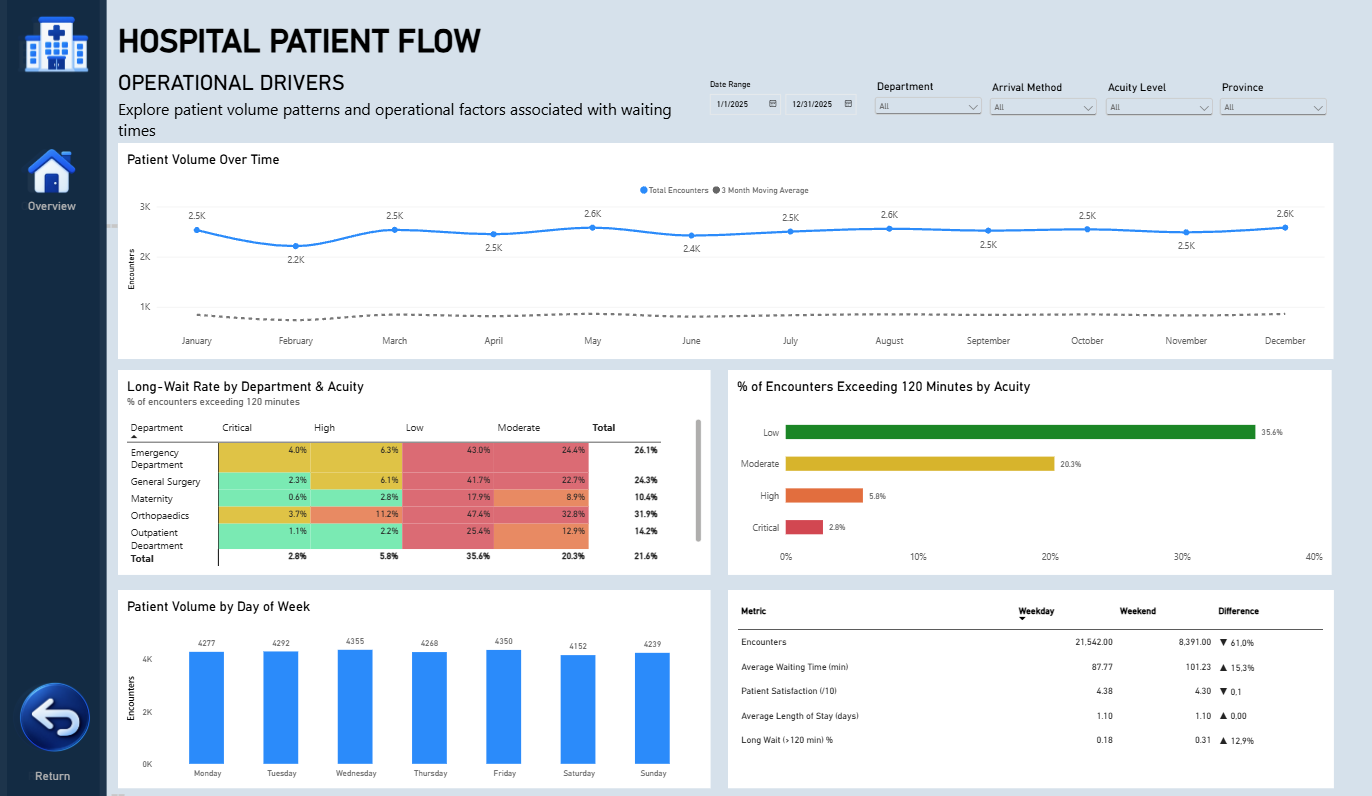

This screenshot's page, from the dashboard's own definition file:
{"tool":"powerbi","page":{"name":"Operational Performance","canvas":[1920,1080],"ordinal":1},"visuals":[{"type":"shape","box":[10,0,134.7,1080],"z":0,"group":"g8"},{"type":"slicer","fields":{"Values":["pipeline_dim_date.full_date"]},"box":[952.1,109.1,224.4,59.8],"z":0,"group":"g4"},{"type":"textbox","title":"Return","box":[48,1041.1,121.1,39.4],"z":0,"group":"g3"},{"type":"image","box":[10,8.2,134.7,106],"z":1000,"group":"g8"},{"type":"group","id":"g1","title":"Group 2","box":[158.9,31.3,757.6,164.2],"z":1000},{"type":"textbox","box":[159.1,31.3,674,51.8],"z":1000,"group":"g1"},{"type":"image","box":[19.5,919.5,111.5,104.7],"z":1000,"group":"g3"},{"type":"textbox","box":[159.1,96.4,373.9,35.5],"z":2000,"group":"g1"},{"type":"slicer","fields":{"Values":["pipeline_dim_department.department_name"]},"box":[1177.6,108.8,155.1,59.8],"z":2000,"group":"g4"},{"type":"group","id":"g2","title":"Group 3","box":[10,194.5,149.6,115.6],"z":2000,"group":"g8"},{"type":"slicer","fields":{"Values":["pipeline_dim_arrival_method.arrival_method"]},"box":[1333.7,109.8,155,59],"z":3000,"group":"g4"},{"type":"textbox","box":[158.9,134.3,757.6,61.2],"z":3000,"group":"g1"},{"type":"group","id":"g3","title":"Group 4","box":[19.5,919.5,149.6,160.5],"z":3000,"group":"g8"},{"type":"slicer","fields":{"Values":["pipeline_fact_encounters.acuity_level"]},"box":[1489.8,109.9,155,59],"z":4000,"group":"g4"},{"type":"slicer","fields":{"Values":["pipeline_dim_patient.province"]},"box":[1644.4,110.4,155,59],"z":5000,"group":"g4"},{"type":"shape","box":[0,0,134.7,1080],"z":6000,"group":"g7"},{"type":"image","box":[0,8.2,134.7,106],"z":7000,"group":"g7"},{"type":"image","box":[0,194.5,121.1,76.2],"z":8000,"group":"g5"},{"type":"image","box":[10,194.5,121.1,76.2],"z":8000,"group":"g2"},{"type":"lineChart","title":"Patient Volume Over Time","fields":{"Category":["pipeline_dim_date.month_name"],"Y":["pipeline_fact_encounters.Total Encounters","pipeline_fact_encounters.3 Month Moving Average"]},"box":[159.1,194.5,1643.1,292.4],"z":12000},{"type":"clusteredColumnChart","title":"Patient Volume by Day of Week","fields":{"Category":["pipeline_dim_date.day_name"],"Y":["pipeline_fact_encounters.Total Encounters"]},"box":[159.1,798.4,801.2,268],"z":13000},{"type":"clusteredBarChart","title":"% of Encounters Exceeding 120 Minutes by Acuity","fields":{"Category":["pipeline_fact_encounters.acuity_level"],"Y":["pipeline_fact_encounters.Long Wait %"]},"box":[983.4,501.9,816.1,277.5],"z":14000},{"type":"pivotTable","title":"Long-Wait Rate by Department & Acuity","fields":{"Columns":["pipeline_fact_encounters.acuity_level"],"Rows":["pipeline_dim_department.department_name"],"Values":["pipeline_fact_encounters.Long Wait %"]},"box":[159.1,501.9,801.2,277.5],"z":15000},{"type":"tableEx","fields":{"Values":["Comparison Metrics.Metric","pipeline_fact_encounters.Weekday Comparison","pipeline_fact_encounters.Weekend Comparison","pipeline_fact_encounters.Weekend Difference Display"]},"box":[983.4,798.4,818.8,268],"z":16000},{"type":"group","id":"g4","title":"Group 1","box":[952.1,108.8,847.4,59.8],"z":16001},{"type":"textbox","title":"Overview","box":[28.6,270.7,121.1,39.4],"z":16002,"group":"g5"},{"type":"textbox","title":"Overview","box":[38.6,270.7,121.1,39.4],"z":16002,"group":"g2"},{"type":"textbox","title":"Return","box":[38,1041.1,121.1,39.4],"z":16002,"group":"g6"},{"type":"group","id":"g5","title":"Group 3","box":[0,194.5,149.6,115.6],"z":16003,"group":"g7"},{"type":"image","box":[9.5,919.5,111.5,104.7],"z":16004,"group":"g6"},{"type":"group","id":"g6","title":"Group 4","box":[9.5,919.5,149.6,160.5],"z":16005,"group":"g7"},{"type":"group","id":"g7","title":"Group 5","box":[0,0,159.1,1080],"z":16006},{"type":"group","id":"g8","title":"Group 5","box":[10,0,159.1,1080],"z":16007}]}

Visuals, with their boxes on the page's 1920x1080 design canvas (x1, y1, x2, y2). These are canvas units, not pixel positions in the 1372x796 screenshot, which may show the page scaled, cropped or inside an application window:
shape: bbox=(10, 0, 145, 1080)
slicer - pipeline_dim_date.full_date: bbox=(952, 109, 1176, 169)
"Return" textbox: bbox=(48, 1041, 169, 1080)
image: bbox=(10, 8, 145, 114)
"Group 2" group: bbox=(159, 31, 916, 196)
textbox: bbox=(159, 31, 833, 83)
image: bbox=(20, 920, 131, 1024)
textbox: bbox=(159, 96, 533, 132)
slicer - pipeline_dim_department.department_name: bbox=(1178, 109, 1333, 169)
"Group 3" group: bbox=(10, 194, 160, 310)
slicer - pipeline_dim_arrival_method.arrival_method: bbox=(1334, 110, 1489, 169)
textbox: bbox=(159, 134, 916, 196)
"Group 4" group: bbox=(20, 920, 169, 1080)
slicer - pipeline_fact_encounters.acuity_level: bbox=(1490, 110, 1645, 169)
slicer - pipeline_dim_patient.province: bbox=(1644, 110, 1799, 169)
shape: bbox=(0, 0, 135, 1080)
image: bbox=(0, 8, 135, 114)
image: bbox=(0, 194, 121, 271)
image: bbox=(10, 194, 131, 271)
"Patient Volume Over Time" lineChart: bbox=(159, 194, 1802, 487)
"Patient Volume by Day of Week" clusteredColumnChart: bbox=(159, 798, 960, 1066)
"% of Encounters Exceeding 120 Minutes by Acuity" clusteredBarChart: bbox=(983, 502, 1800, 779)
"Long-Wait Rate by Department & Acuity" pivotTable: bbox=(159, 502, 960, 779)
tableEx - Comparison Metrics.Metric x pipeline_fact_encounters.Weekday Comparison: bbox=(983, 798, 1802, 1066)
"Group 1" group: bbox=(952, 109, 1800, 169)
"Overview" textbox: bbox=(29, 271, 150, 310)
"Overview" textbox: bbox=(39, 271, 160, 310)
"Return" textbox: bbox=(38, 1041, 159, 1080)
"Group 3" group: bbox=(0, 194, 150, 310)
image: bbox=(10, 920, 121, 1024)
"Group 4" group: bbox=(10, 920, 159, 1080)
"Group 5" group: bbox=(0, 0, 159, 1080)
"Group 5" group: bbox=(10, 0, 169, 1080)
